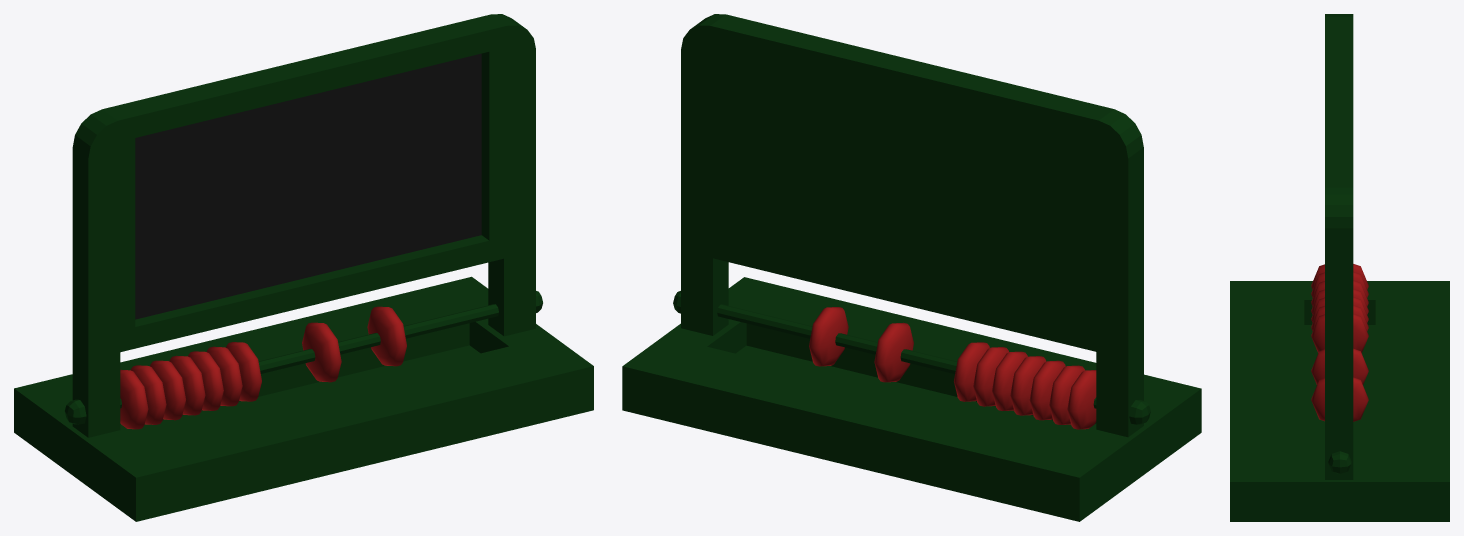
The model's file is Toy1.fbx.
3 views of the same model, side by side, from view 1: azimuth 30°, elevation 25°; view 2: azimuth 150°, elevation 25°; view 3: azimuth 270°, elevation 25° (orthographic). The views are drawn at different scales.
Parts seen in each view (by area): view 1: Prop_MathToy; view 2: Prop_MathToy; view 3: Prop_MathToy.
Boxes of the visible parts, x1=… form: Prop_MathToy: x1=14, y1=14, x2=593, y2=521; Prop_MathToy: x1=622, y1=14, x2=1201, y2=521; Prop_MathToy: x1=1230, y1=14, x2=1449, y2=521.
Bounding box in the file's own units: 36.42 × 26.03 × 16.26.
1 material, 1 textured.
